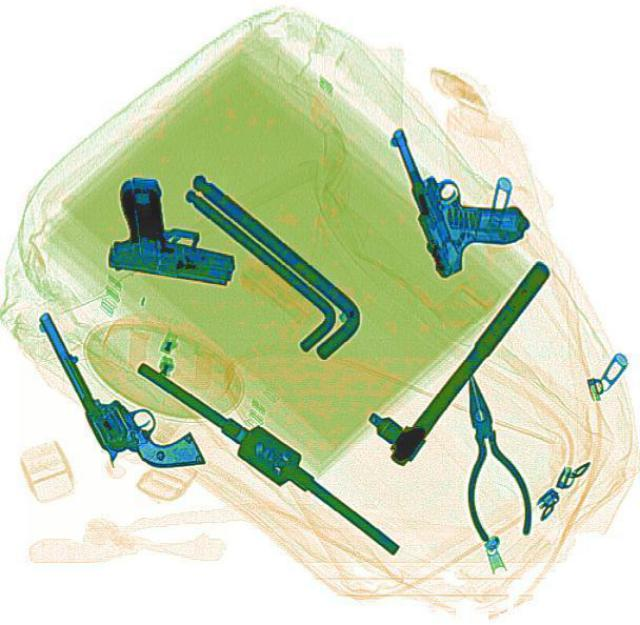Gun: (32, 281, 206, 494), (382, 101, 538, 279), (102, 174, 246, 286)
Pliers: (438, 363, 536, 543)
